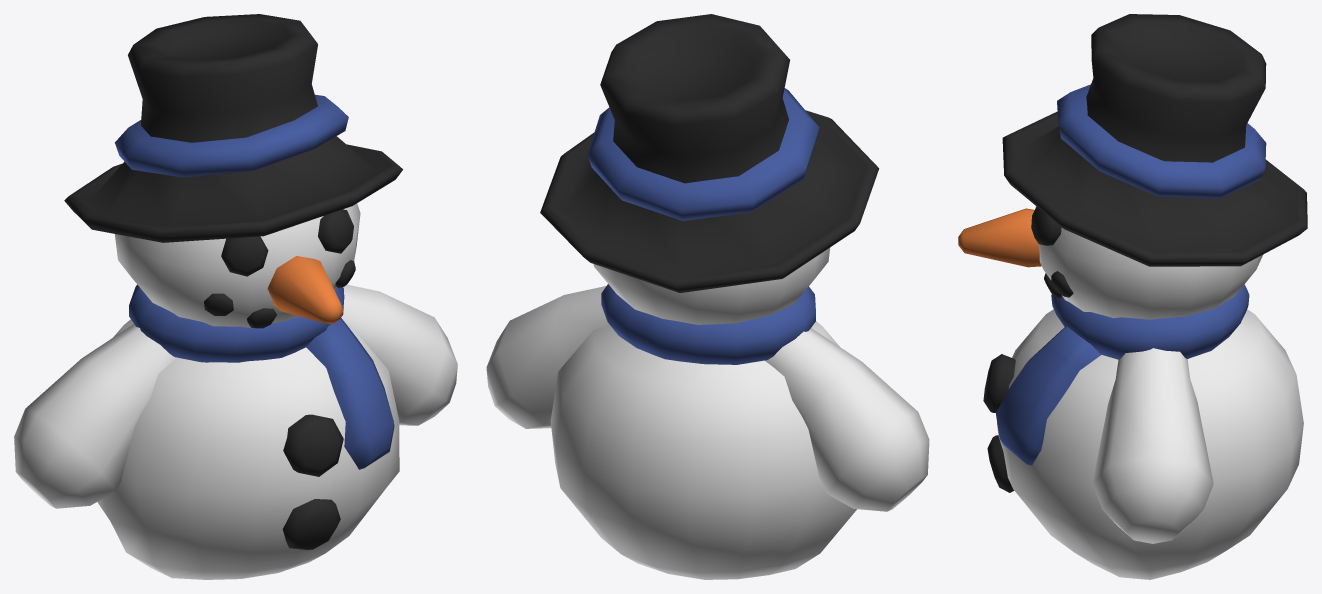
File: Snowman_01_Small.fbx
3 views of the same model, side by side, from view 1: azimuth 30°, elevation 25°; view 2: azimuth 150°, elevation 25°; view 3: azimuth 270°, elevation 25° (orthographic). The views are drawn at different scales.
Parts seen in each view (by area): view 1: Snowman_01_Small; view 2: Snowman_01_Small; view 3: Snowman_01_Small.
Part boxes in pixels (x1,y1,x2,y2): Snowman_01_Small: [14, 14, 457, 579]; Snowman_01_Small: [486, 14, 929, 579]; Snowman_01_Small: [958, 14, 1307, 579].
Size of the model in its own units: 0.6597 by 0.7548 by 0.4744.
